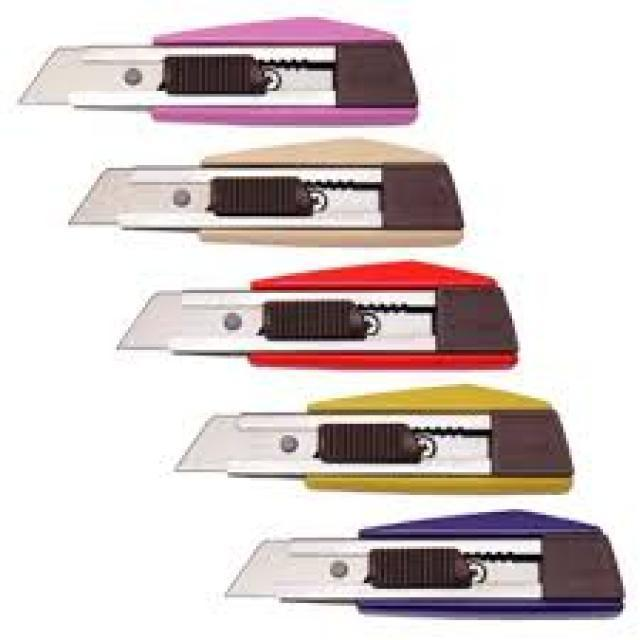cutter: (170, 388, 600, 501), (200, 511, 634, 622), (107, 267, 538, 377), (11, 18, 427, 128), (63, 142, 487, 248)
